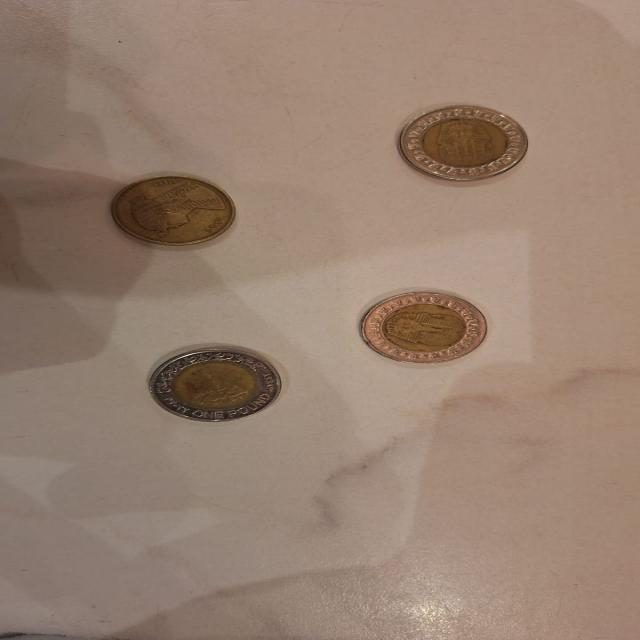Half Pound: (100, 170, 244, 252)
One Pound: (134, 344, 296, 424), (390, 103, 539, 185), (359, 289, 495, 367)
